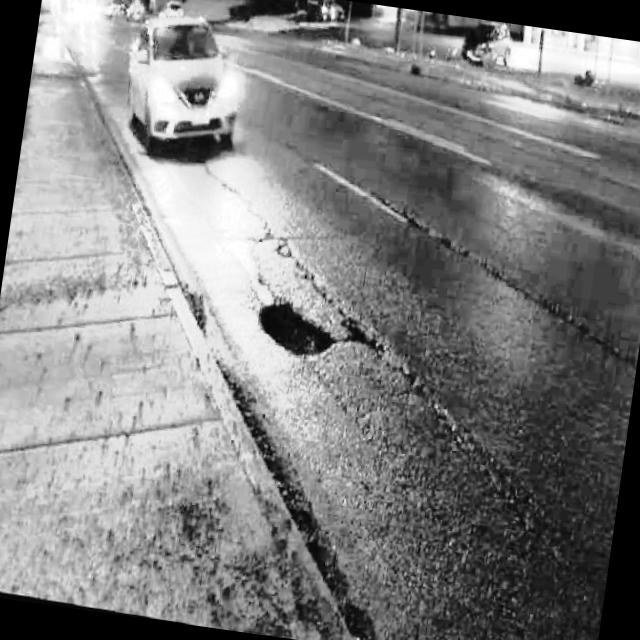Pothole: (231, 267, 386, 390)
